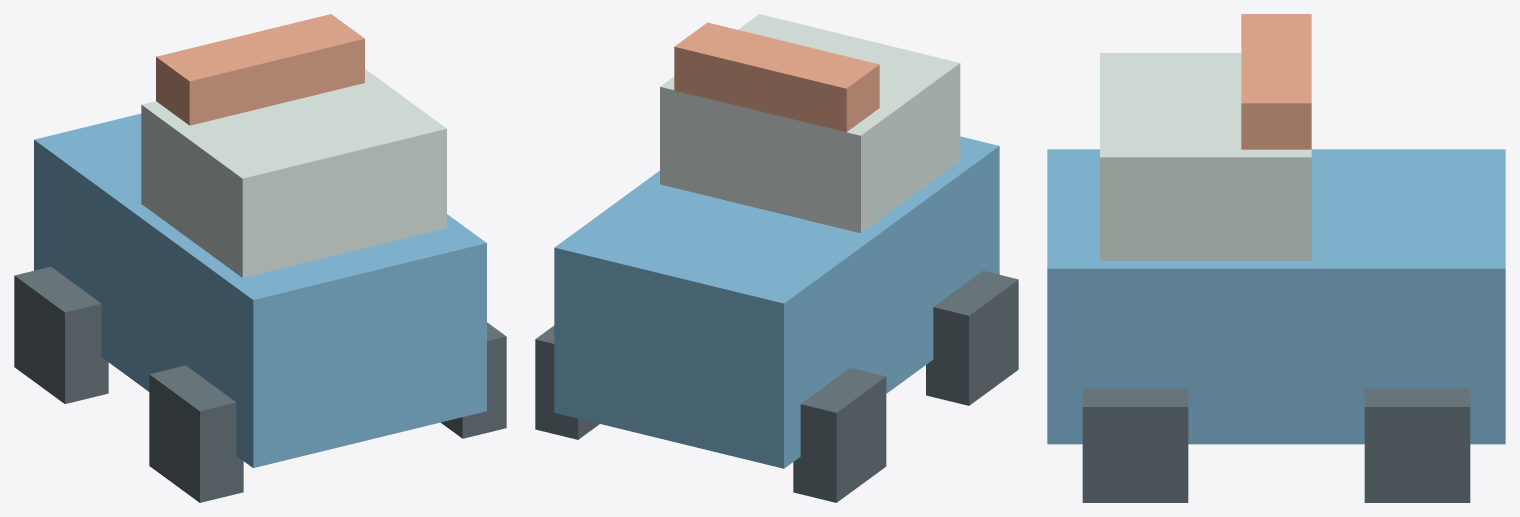
File: repair_van_demo.glb
3 renders of one model, left to right at view 1: azimuth 30°, elevation 25°; view 2: azimuth 150°, elevation 25°; view 3: azimuth 270°, elevation 25°, orthographic. The views are drawn at different scales.
Parts seen in each view (by area): view 1: Part0, Part1, Part2, Part3, Part4, Part6; view 2: Part0, Part1, Part2, Part3, Part4, Part5; view 3: Part0, Part1, Part5, Part6, Part2.
Boxes of the visible parts, box(x1,y1,x2,y2) form: Part0: box(34, 113, 486, 467); Part1: box(141, 69, 446, 277); Part2: box(156, 14, 364, 125); Part3: box(14, 266, 108, 403); Part4: box(149, 365, 243, 502); Part6: box(441, 322, 506, 438); Part0: box(554, 136, 999, 468); Part1: box(660, 14, 960, 233); Part2: box(674, 22, 879, 132); Part3: box(793, 368, 886, 502); Part4: box(926, 271, 1018, 405); Part5: box(535, 325, 599, 439); Part0: box(1047, 149, 1505, 444); Part1: box(1100, 53, 1311, 260); Part5: box(1364, 388, 1470, 502); Part6: box(1082, 388, 1188, 502); Part2: box(1241, 14, 1311, 149).
Bounding box in the file's own units: 1.05 × 1.15 × 1.3.
